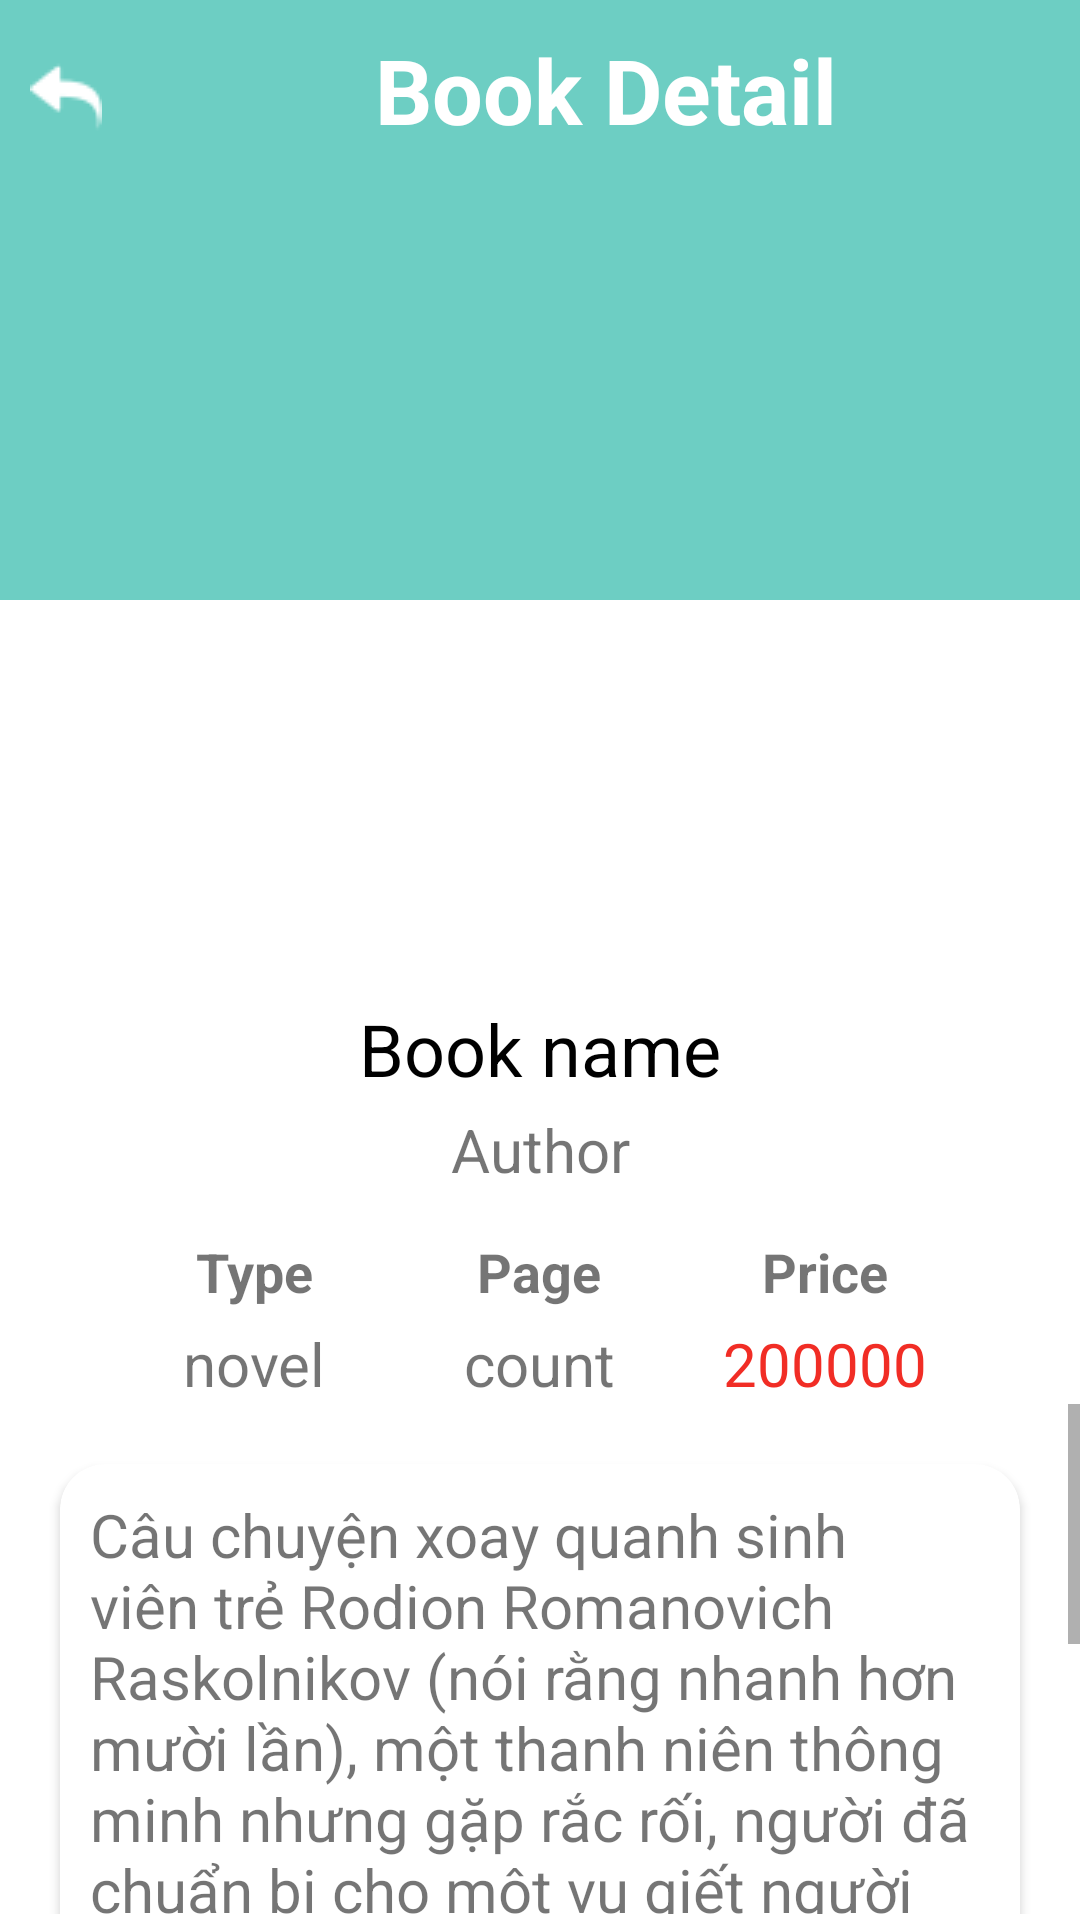

Point at icon controls on the screen. Image size 1080w x 1920h, points as (x=x, y=y).
iconback: (x=66, y=96)
